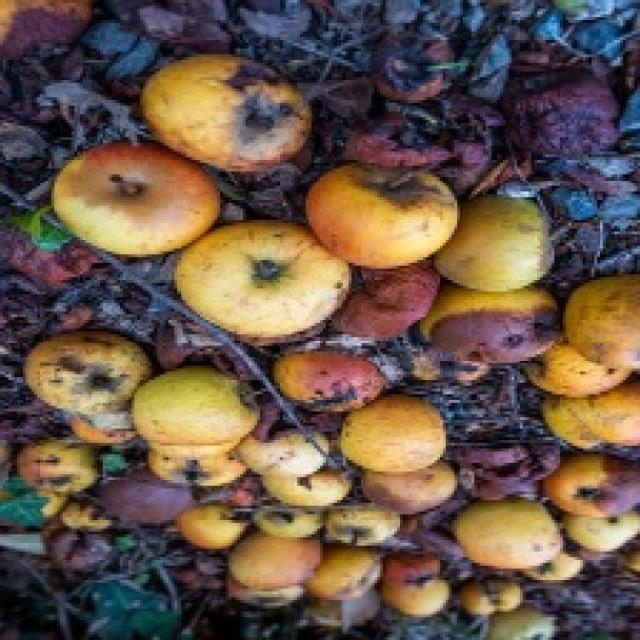rotten_apple: (147, 52, 304, 160), (60, 148, 208, 250), (312, 168, 458, 262), (28, 338, 141, 412), (433, 290, 558, 356), (276, 351, 384, 412), (344, 265, 430, 338), (550, 456, 636, 516), (20, 440, 97, 491)
